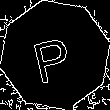P_N: (31, 26, 79, 84)
